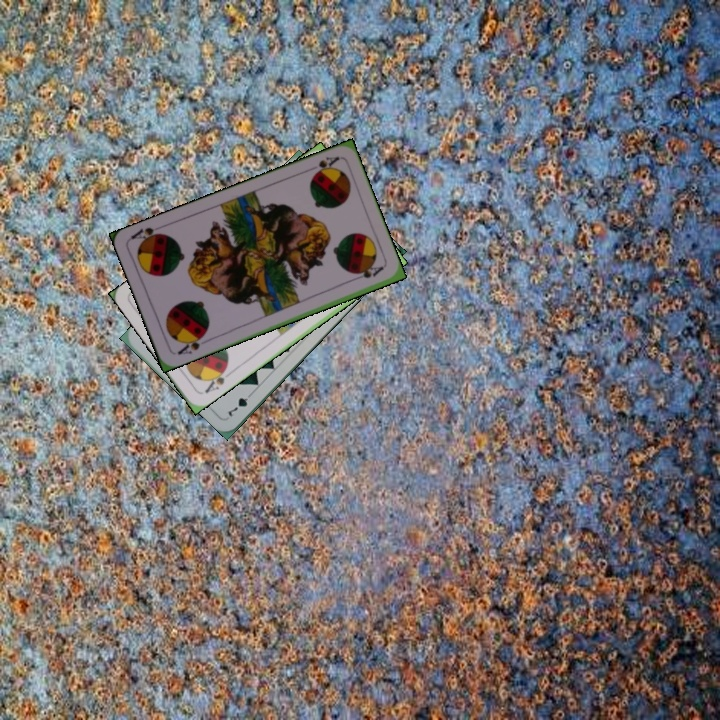G7: (223, 387, 256, 419)
SA: (201, 363, 234, 396), (303, 152, 342, 179), (173, 330, 208, 357)
